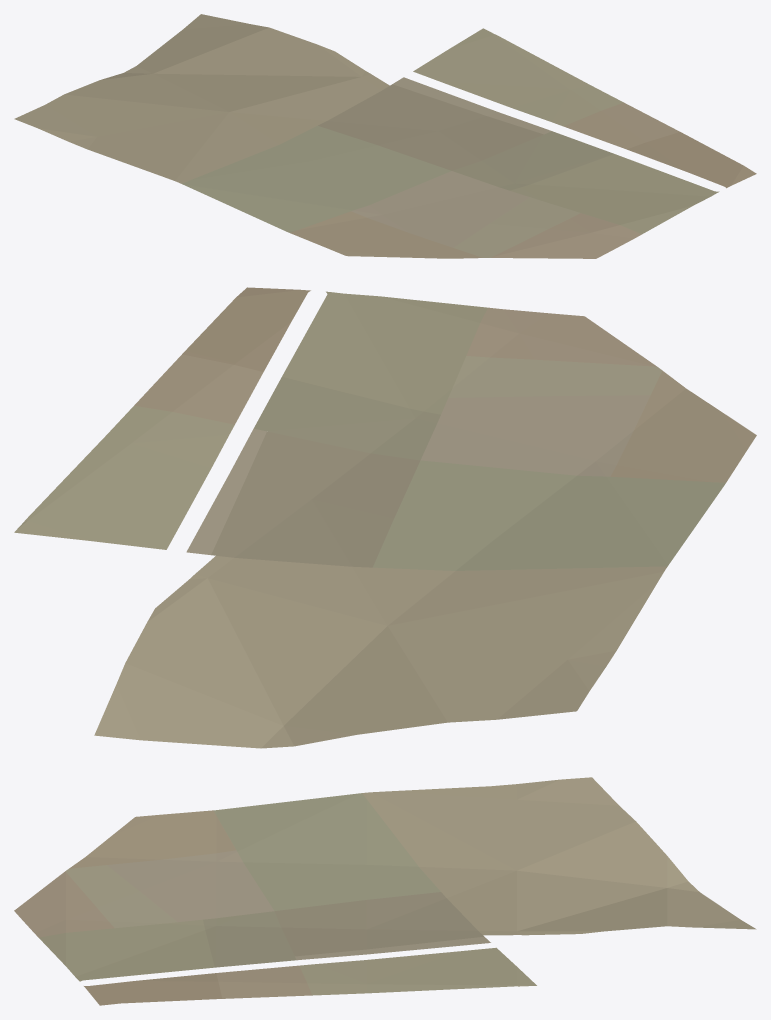
File: farm_0_14_soil.glb
The picture shows the model from 3 angles, top to bottom: view 1: azimuth 30°, elevation 25°; view 2: azimuth 150°, elevation 25°; view 3: azimuth 270°, elevation 25°; orthographic projection. The views are drawn at different scales.
Parts seen in each view (by area): view 1: geometry_0; view 2: geometry_0; view 3: geometry_0.
Boxes of the visible parts, x1,y1,x2,y2 form: geometry_0: (14,14,756,258); geometry_0: (14,287,756,748); geometry_0: (14,777,756,1005).
Size of the model in its own units: 298 by 22.91 by 396.
